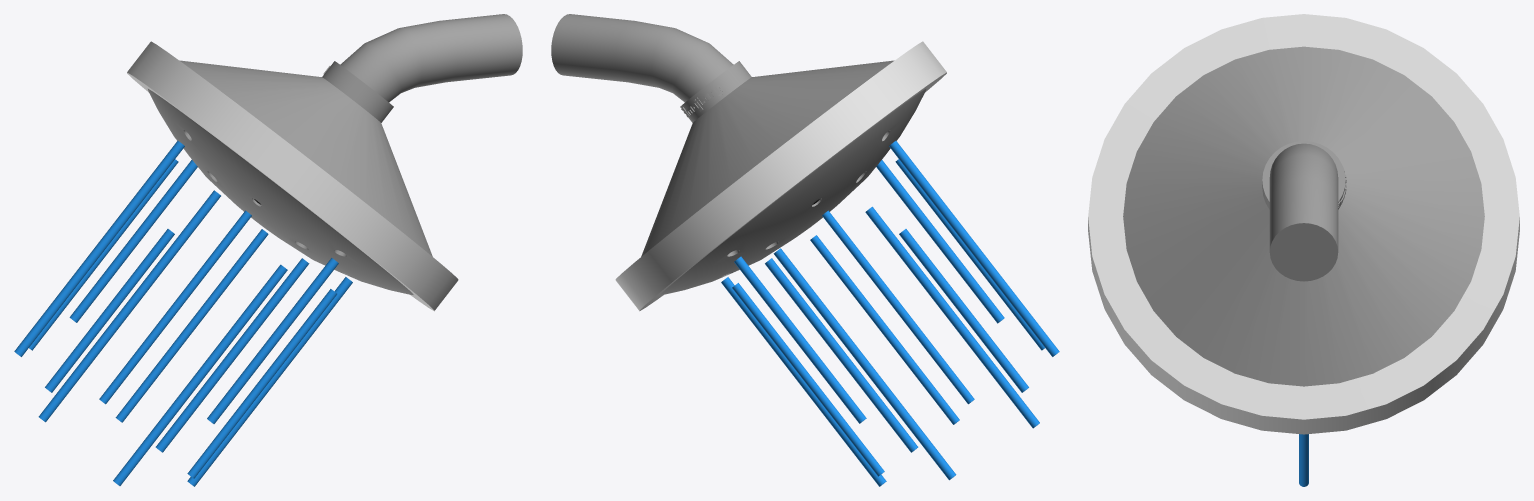
The model's file is shower.glb.
3 renders of one model, left to right at view 1: azimuth 30°, elevation 25°; view 2: azimuth 150°, elevation 25°; view 3: azimuth 270°, elevation 25°, orthographic. The views are drawn at different scales.
Parts seen in each view (by area): view 1: Circle.2604; view 2: Circle.2604; view 3: Circle.2604.
Boxes of the visible parts, x1,y1,x2,y2 form: Circle.2604: [14, 14, 522, 486]; Circle.2604: [551, 14, 1059, 486]; Circle.2604: [1088, 14, 1519, 486].
Size of the model in its own units: 2.11 by 1.72 by 1.44.
Materials: 1 (1 with a texture image).
